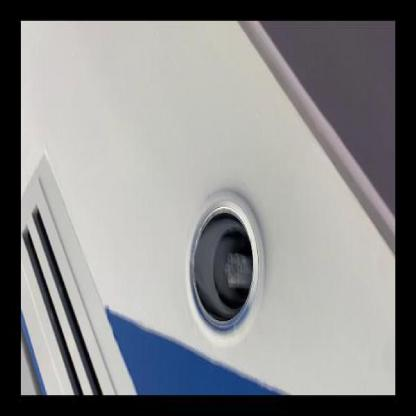light_off: (176, 174, 272, 352)
